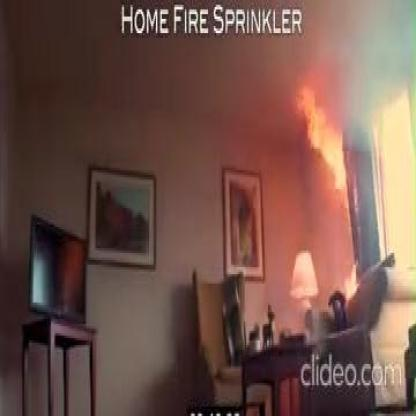fire: (295, 83, 350, 210), (335, 260, 363, 300)
